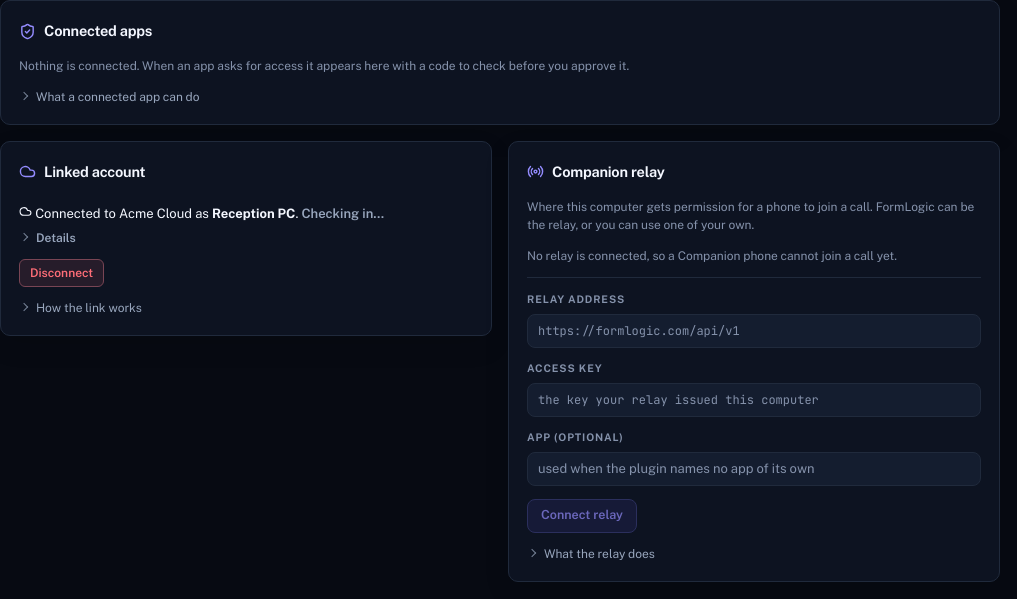
Test: ConnectionsPanel · Linked account › does not say Disconnected when the host answers with the account still linked and gives no reason
The image size is (1017, 599).
Click the button "Disconnect": x=62, y=273 x1=19 y1=259 x2=104 y2=287
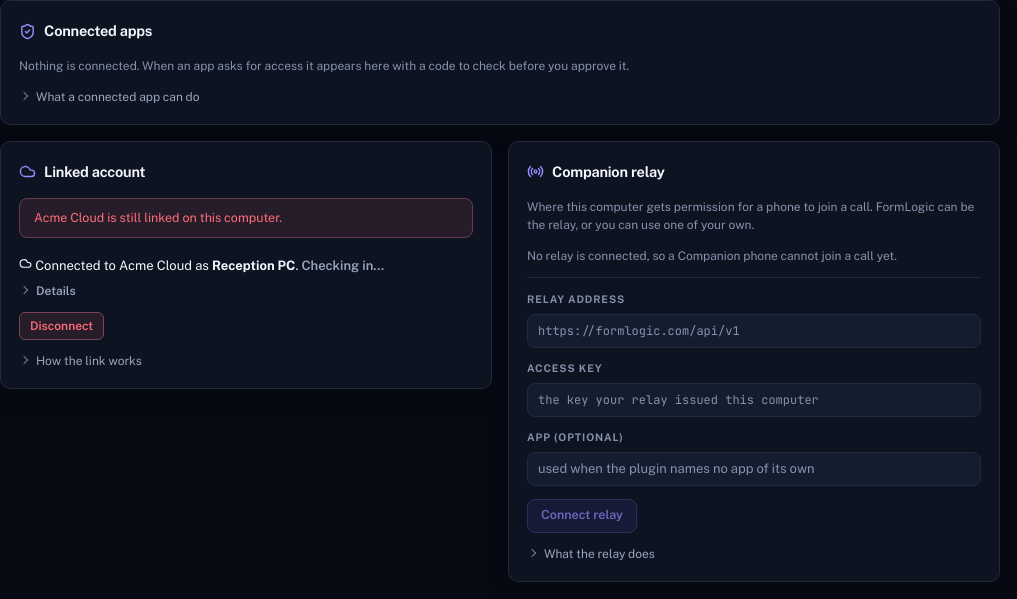
Expected: the text "Reception PC" is shown, x1=212 y1=258 x2=295 y2=273
Expected: the number of messages is 1, x1=19 y1=198 x2=473 y2=238
Expected: the message "Acme Cloud is still linked on this computer." is shown, x1=19 y1=198 x2=473 y2=238
